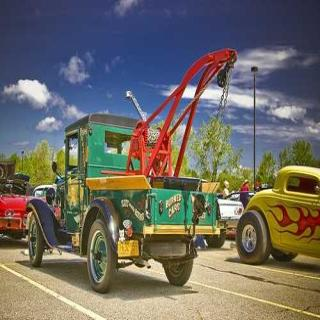Towing_truck: (23, 46, 239, 294), (234, 164, 320, 266)
